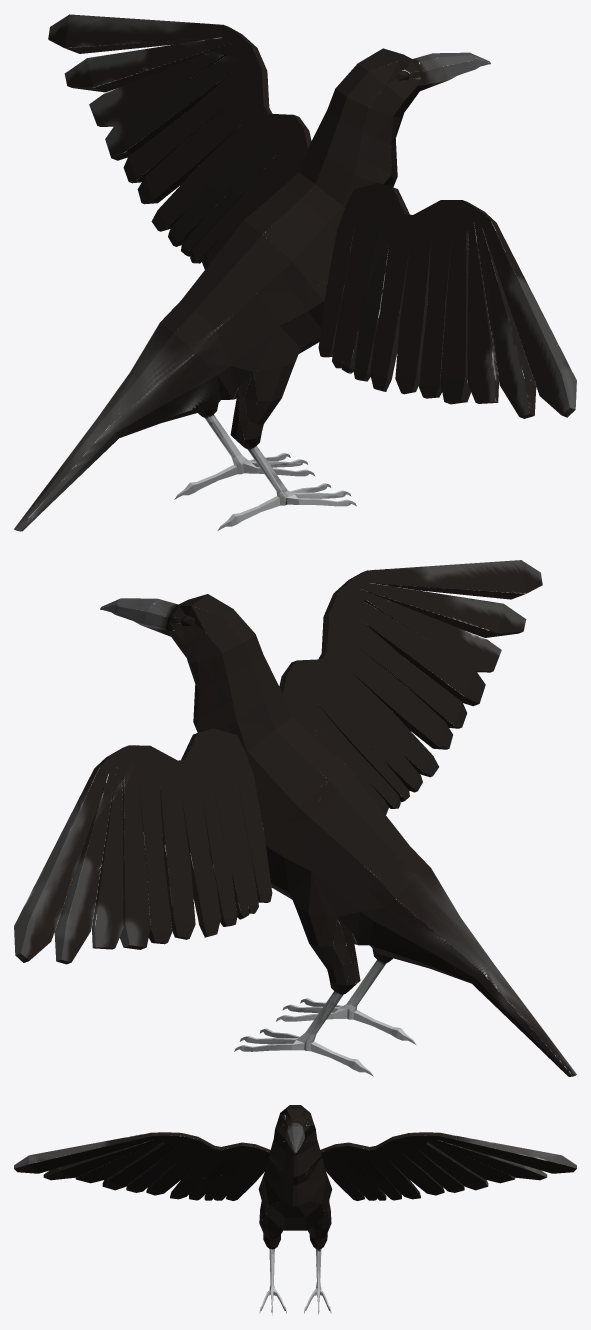
File: Crow.obj
3 views of the same model, one above another, from view 1: azimuth 30°, elevation 25°; view 2: azimuth 150°, elevation 25°; view 3: azimuth 270°, elevation 25° (orthographic). The views are drawn at different scales.
Parts seen in each view (by area): view 1: Cylinder; view 2: Cylinder; view 3: Cylinder.
Part boxes in pixels (left/top/right/bottom): Cylinder: left=14, top=14, right=576, bottom=531; Cylinder: left=14, top=560, right=576, bottom=1076; Cylinder: left=14, top=1105, right=576, bottom=1315.
Bounding box in the file's own units: 1.99 × 1.65 × 3.77.
Materials: 1 (1 with a texture image).
